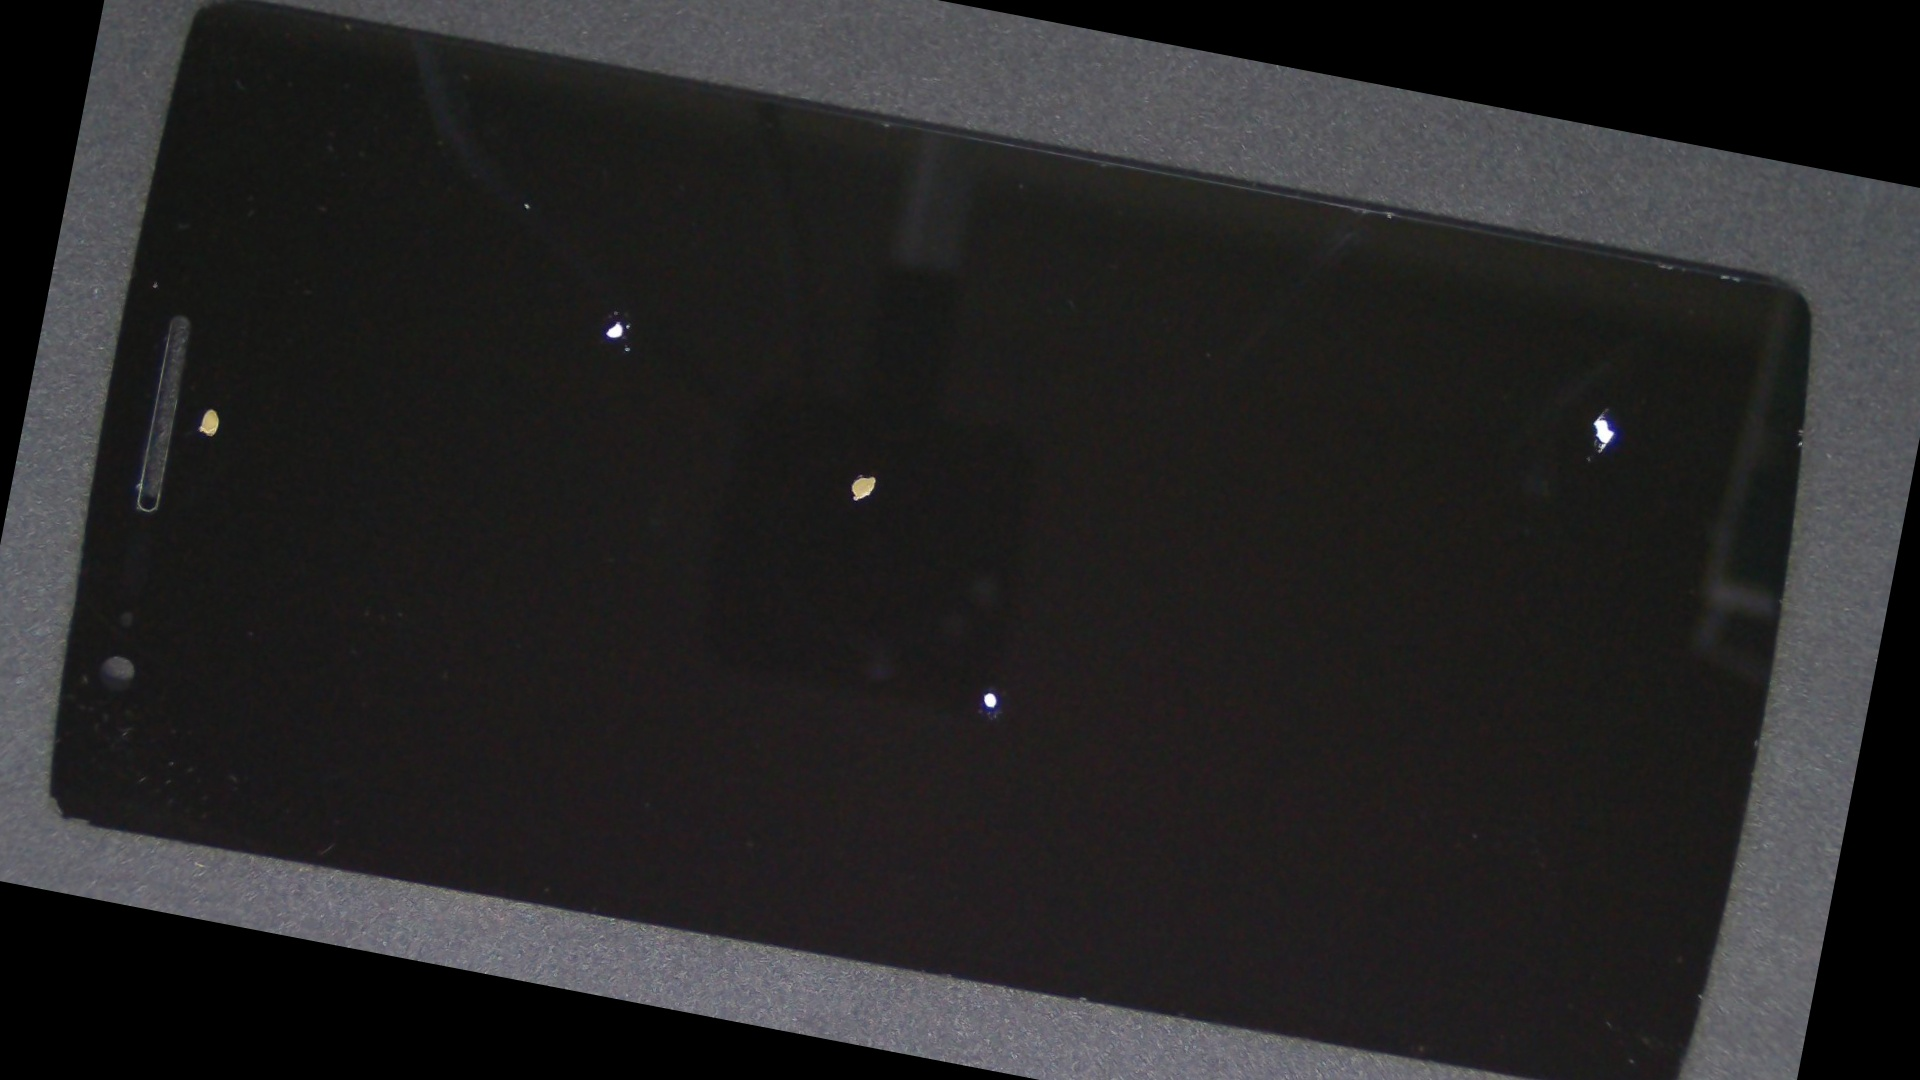oil: (439, 269, 1551, 1080), (415, 160, 1333, 789), (823, 127, 1920, 601), (305, 82, 924, 553), (71, 127, 349, 687)
